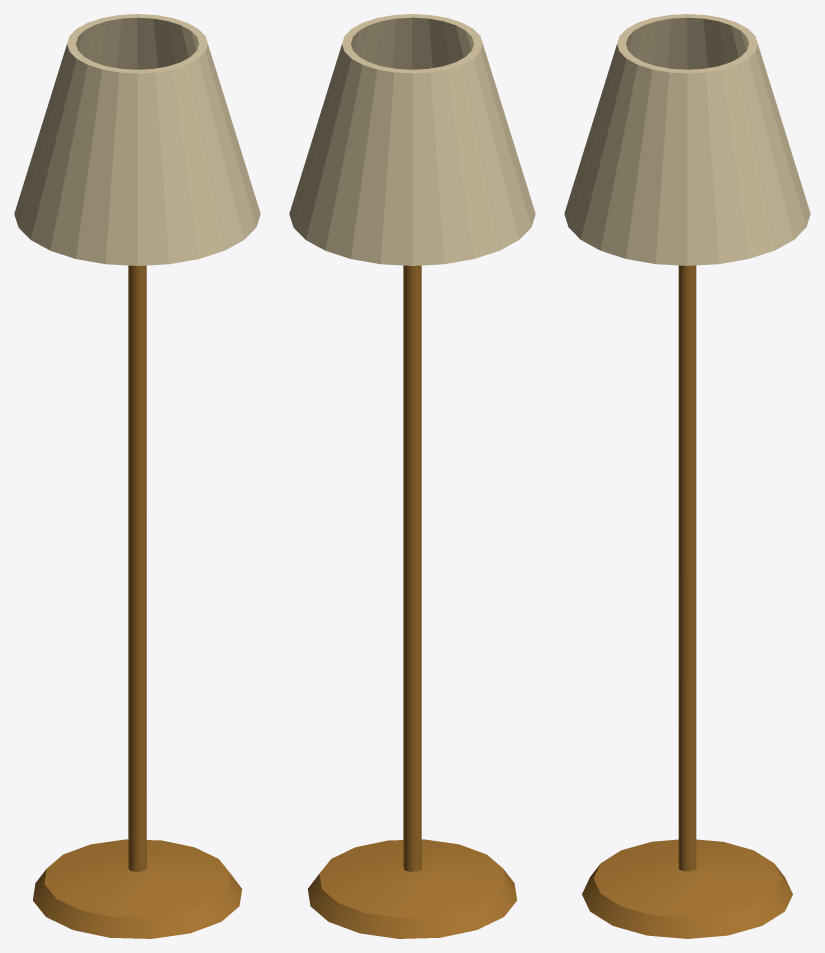
The model's file is floor-lamp.glb.
3 renders of one model, left to right at view 1: azimuth 30°, elevation 25°; view 2: azimuth 150°, elevation 25°; view 3: azimuth 270°, elevation 25°, orthographic.
Parts seen in each view (by area): view 1: Lamp shade, Lamp foot, Lamp pole; view 2: Lamp shade, Lamp foot, Lamp pole; view 3: Lamp shade, Lamp foot, Lamp pole.
Boxes of the visible parts, x1=… form: Lamp shade: x1=14, y1=14, x2=260, y2=265; Lamp foot: x1=33, y1=839, x2=241, y2=938; Lamp pole: x1=128, y1=265, x2=146, y2=871; Lamp shade: x1=289, y1=14, x2=535, y2=265; Lamp foot: x1=308, y1=839, x2=516, y2=938; Lamp pole: x1=403, y1=265, x2=421, y2=871; Lamp shade: x1=564, y1=14, x2=810, y2=265; Lamp foot: x1=582, y1=839, x2=792, y2=938; Lamp pole: x1=678, y1=265, x2=696, y2=871.
Size of the model in its own units: 0.42 by 1.6 by 0.42.
